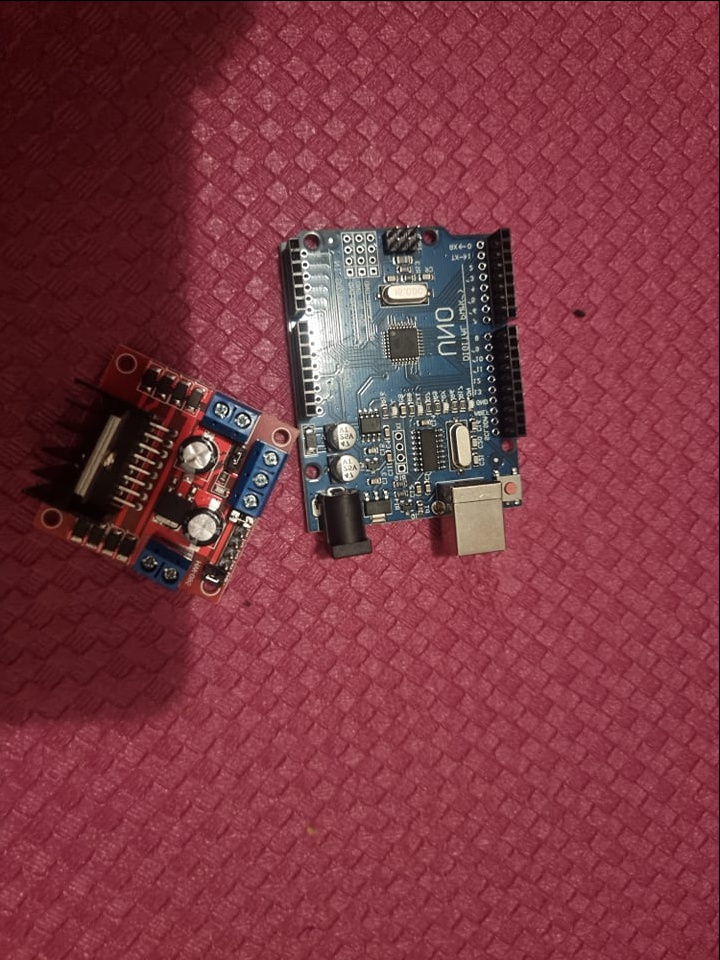MOTOR: (35, 333, 300, 608)
UNO R3: (282, 217, 524, 570)
